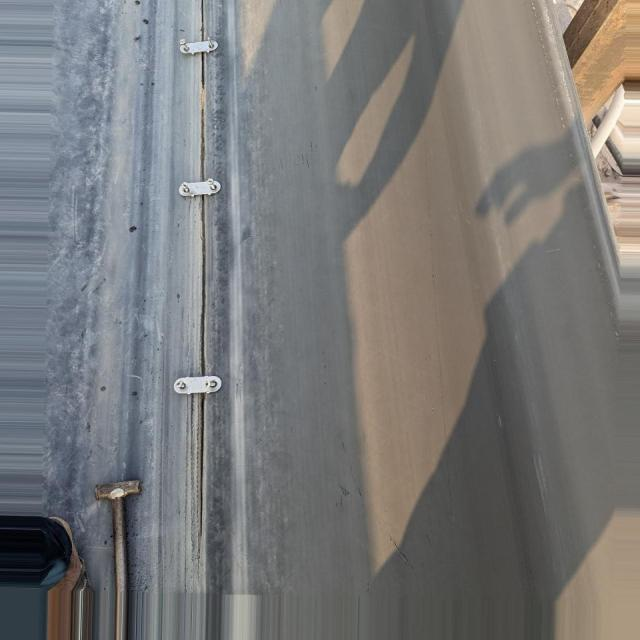Other Objects: (0, 508, 82, 640), (89, 474, 145, 640)
patch work: (170, 19, 229, 549)
